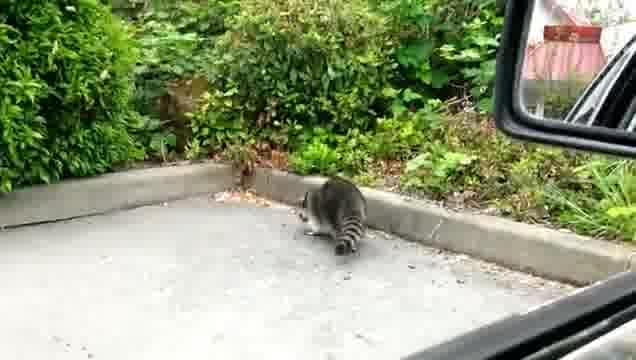raccoon: (295, 176, 369, 258)
